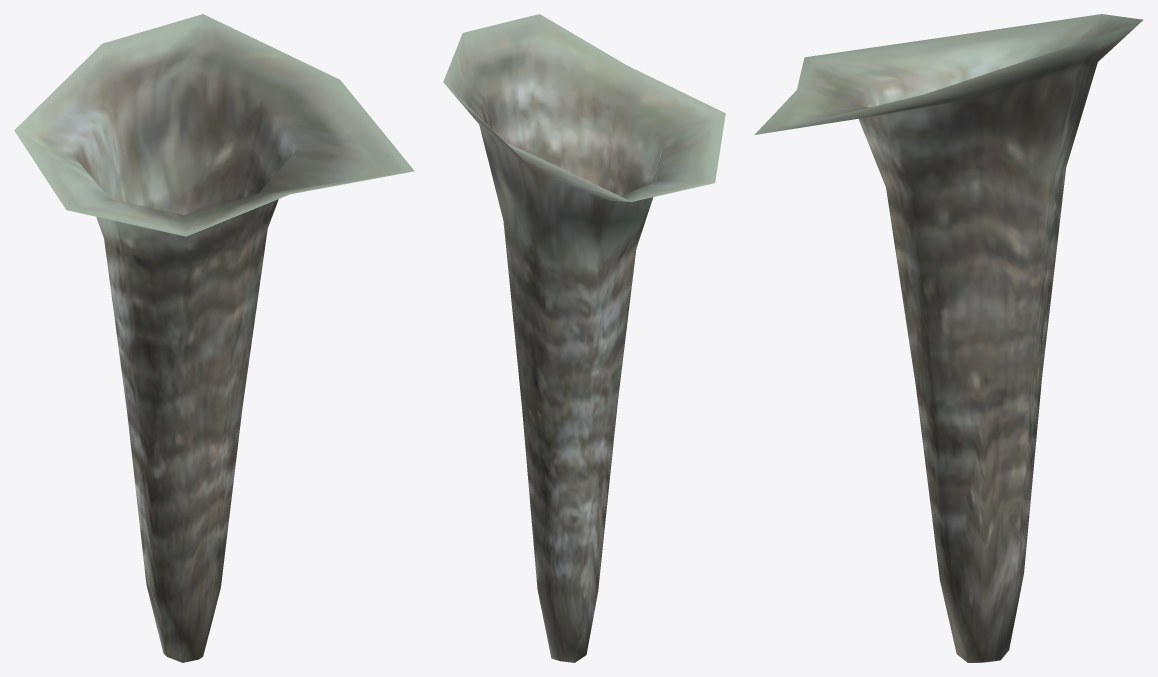
Rendered from TROLLHOLE02_PS-MAINSTALAG81.fbx.
3 renders of one model, left to right at view 1: azimuth 30°, elevation 25°; view 2: azimuth 150°, elevation 25°; view 3: azimuth 270°, elevation 25°, orthographic. The views are drawn at different scales.
Parts seen in each view (by area): view 1: TROLLHOLE02_PS-MAINSTALAG81; view 2: TROLLHOLE02_PS-MAINSTALAG81; view 3: TROLLHOLE02_PS-MAINSTALAG81.
Boxes of the visible parts, box(x1,y1,x2,y2) form: TROLLHOLE02_PS-MAINSTALAG81: box(14, 14, 414, 662); TROLLHOLE02_PS-MAINSTALAG81: box(443, 14, 725, 662); TROLLHOLE02_PS-MAINSTALAG81: box(754, 14, 1143, 662).
Size of the model in its own units: 17720 by 38342 by 20341.
1 material, 1 textured.
